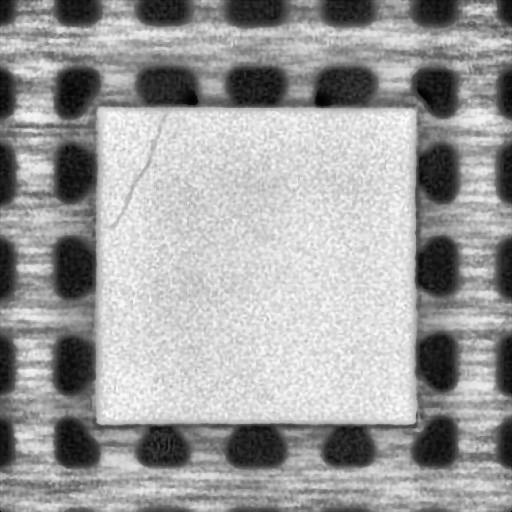DIE_CRACK: (111, 112, 167, 226)
